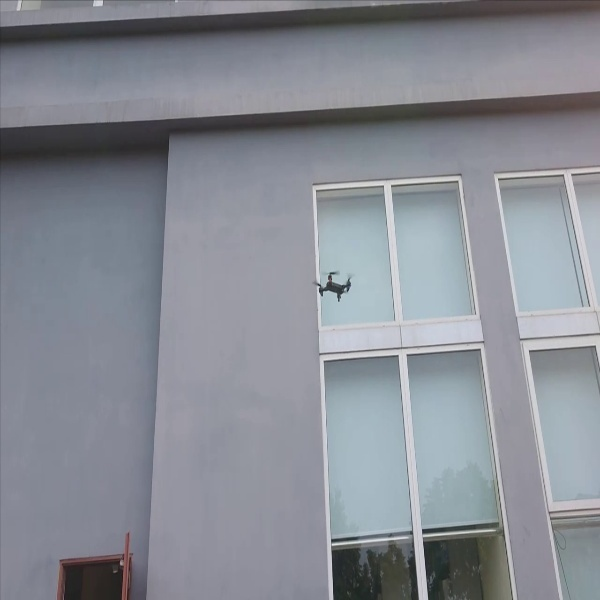drone: (311, 262, 358, 303)
